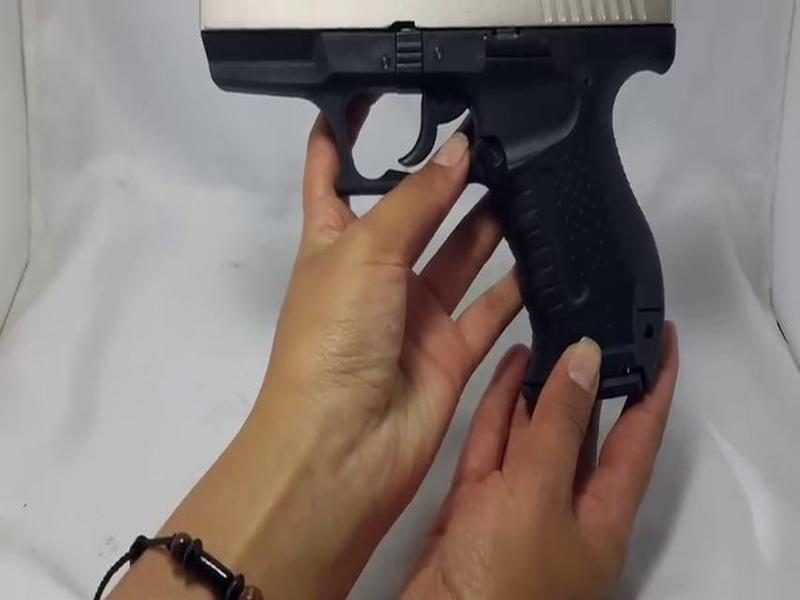Pistola: (159, 1, 720, 414)
